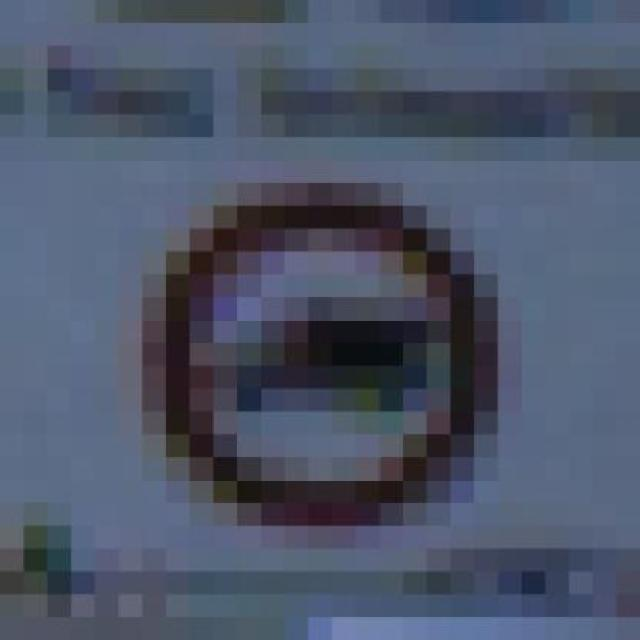Truck traffic is prohibited: (119, 182, 522, 548)
